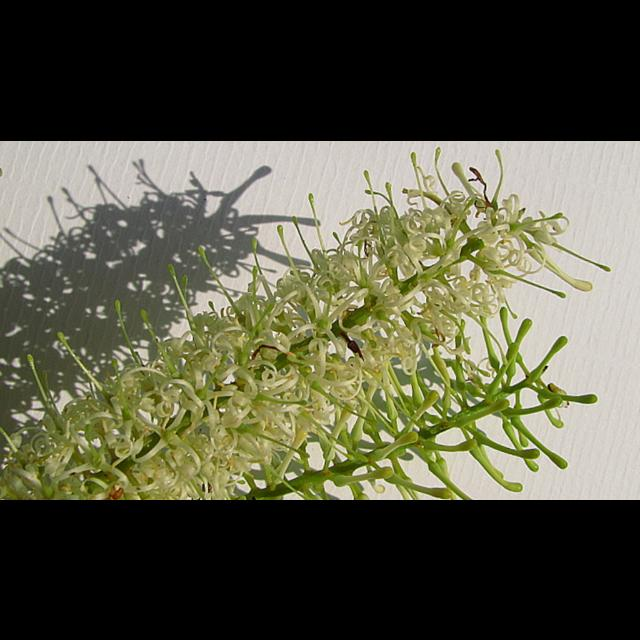Flower: (24, 150, 640, 470)
